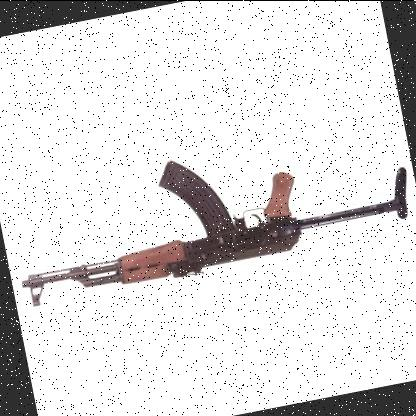rifle: (0, 94, 416, 335)
